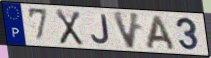3: (173, 16, 202, 53)
7: (27, 7, 50, 44)
A: (145, 14, 178, 52)
J: (90, 13, 111, 46)
V: (111, 10, 142, 50)
X: (55, 8, 85, 47)
